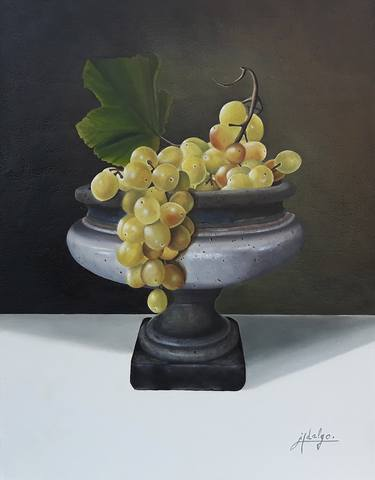Green grapes: (82, 106, 307, 194)
